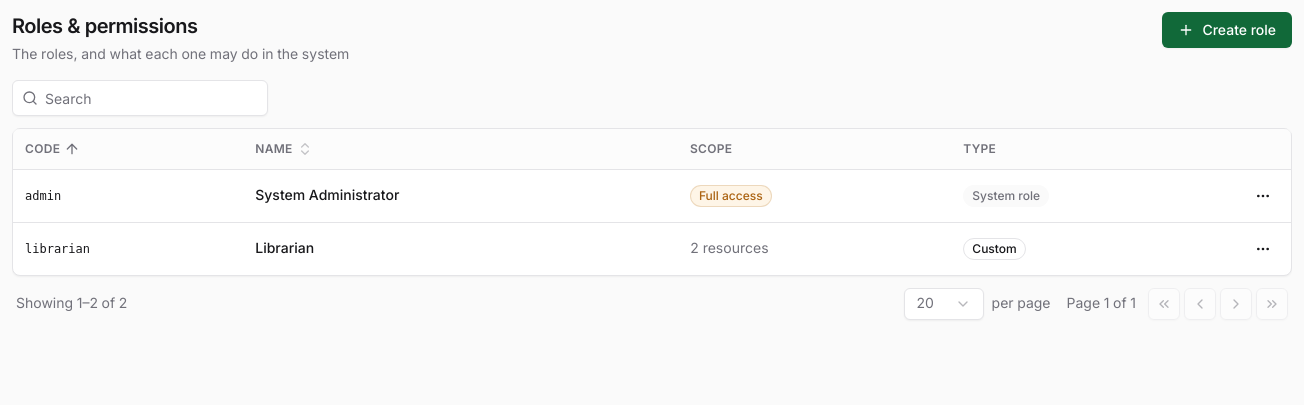
Test: RolesPage › will not offer to delete a system role
Click the button named "actions" in the row of "System Administrator" at (1263,196), box [1247,180,1279,212]
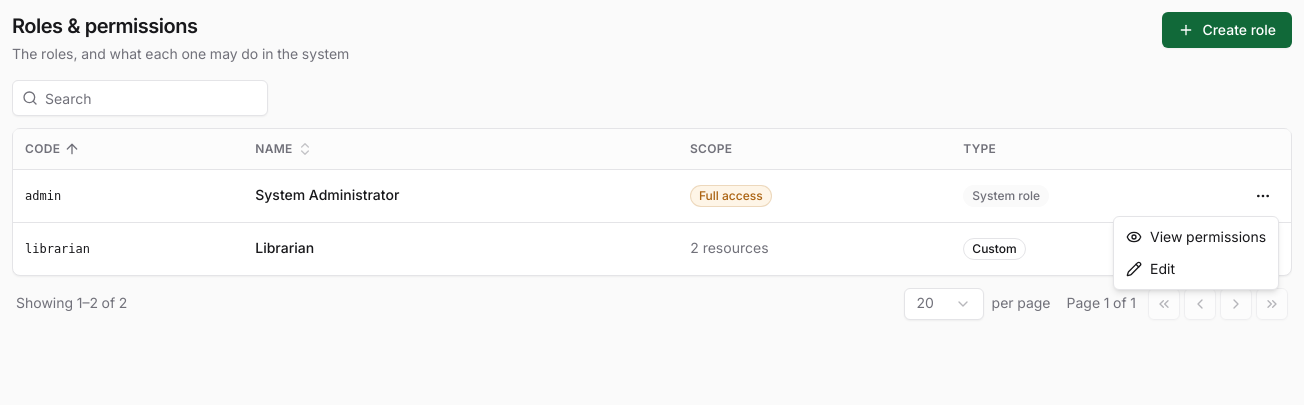
Check: the menu item "delete" is not shown
Check: the menu item "View permissions" is shown, box [1118,221,1274,253]
Press Escape
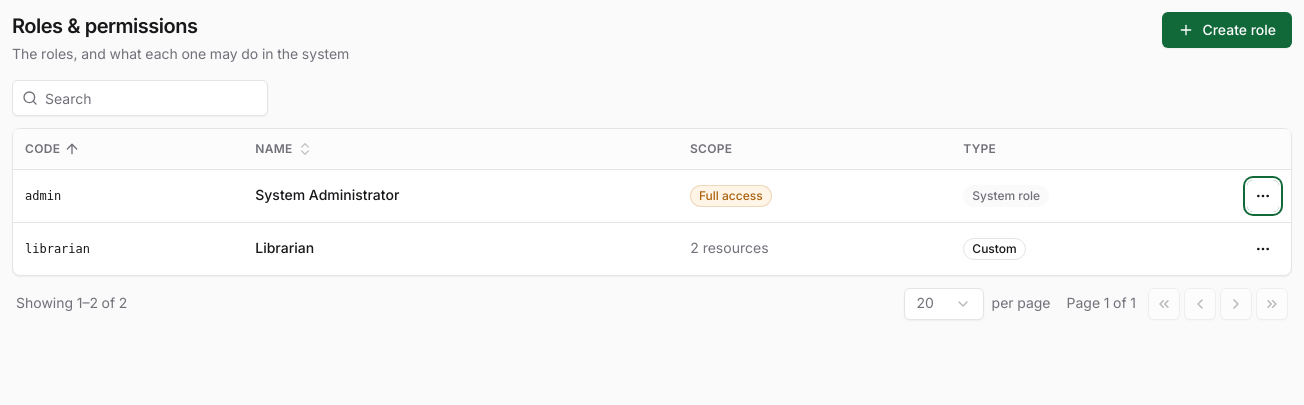
Click the button named "actions" in the row of "2 resources" at (1263,248), box [1247,232,1279,264]
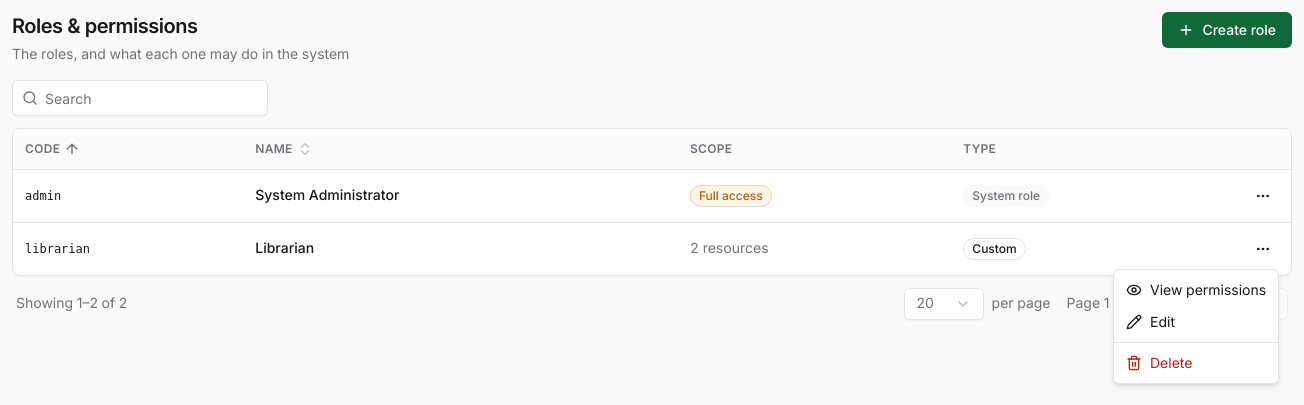
Check: the menu item "Delete" is shown, box [1126,351,1192,374]
